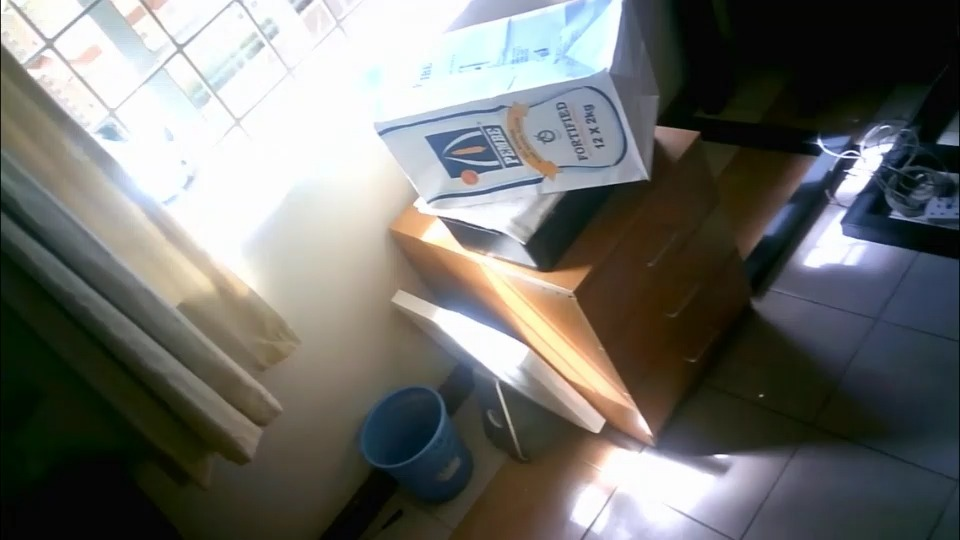wheat_flour_blue_label: (374, 4, 654, 205)
